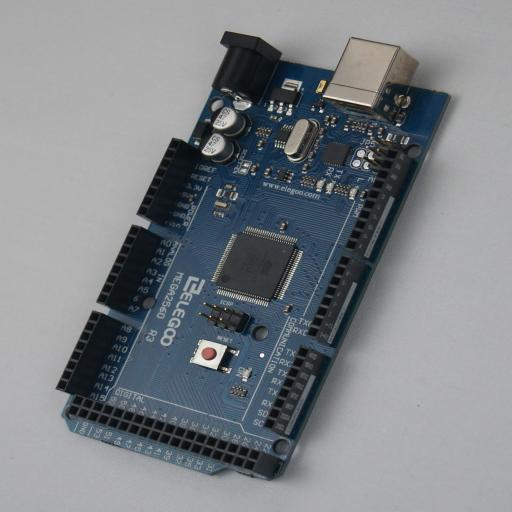Arduino Mega 2560 -Blue-: (56, 31, 452, 481)
